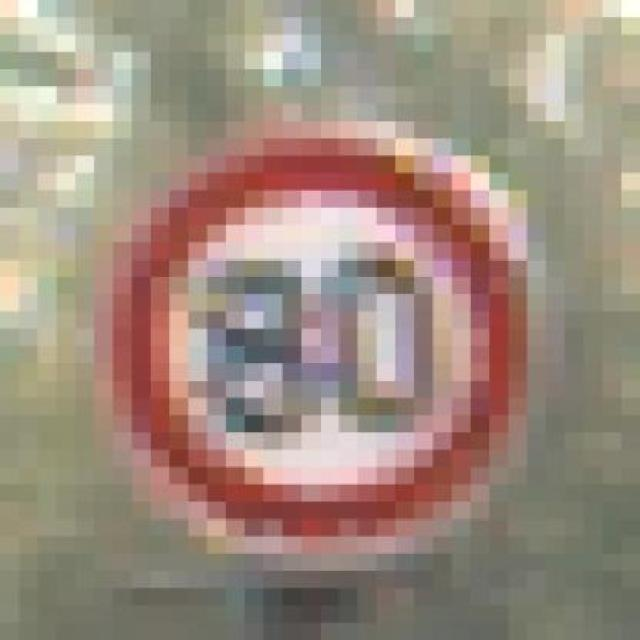forb_speed_over_80: (120, 137, 518, 529)
